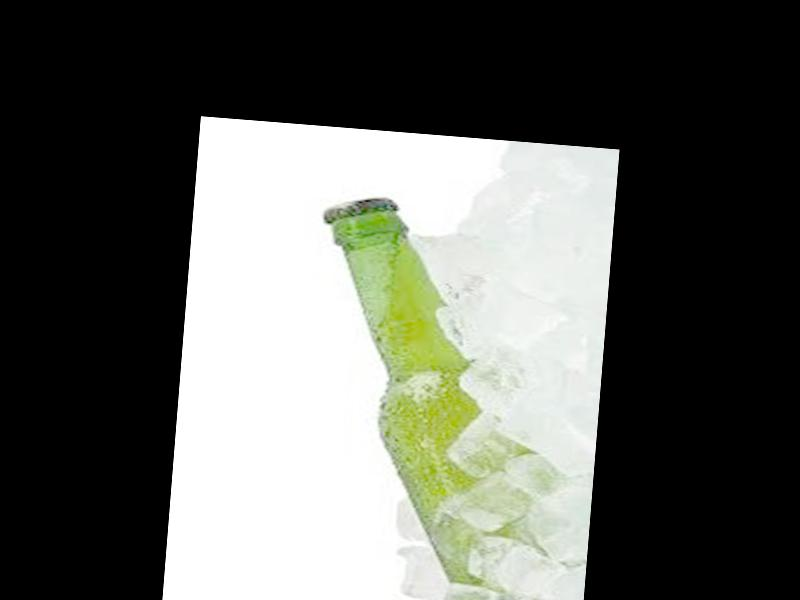Beer: (296, 189, 534, 600)
